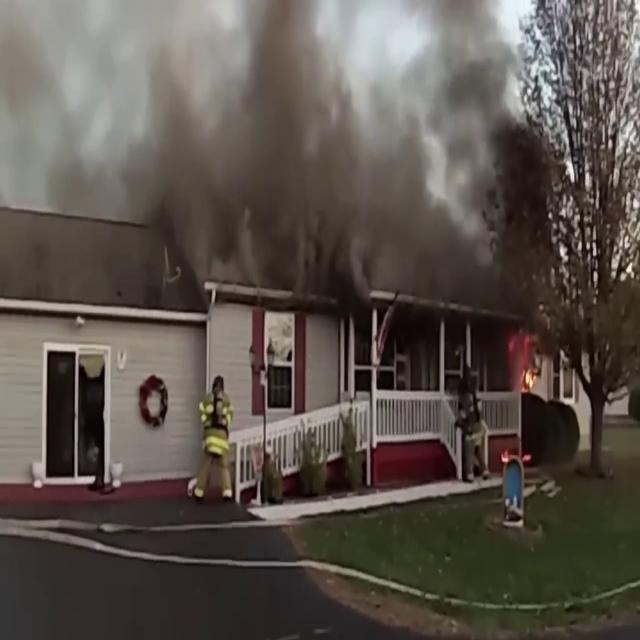Fire: (518, 348, 542, 398)
Smoke: (1, 0, 571, 292)
